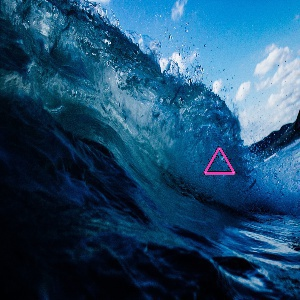triangle: (200, 144, 237, 177)
